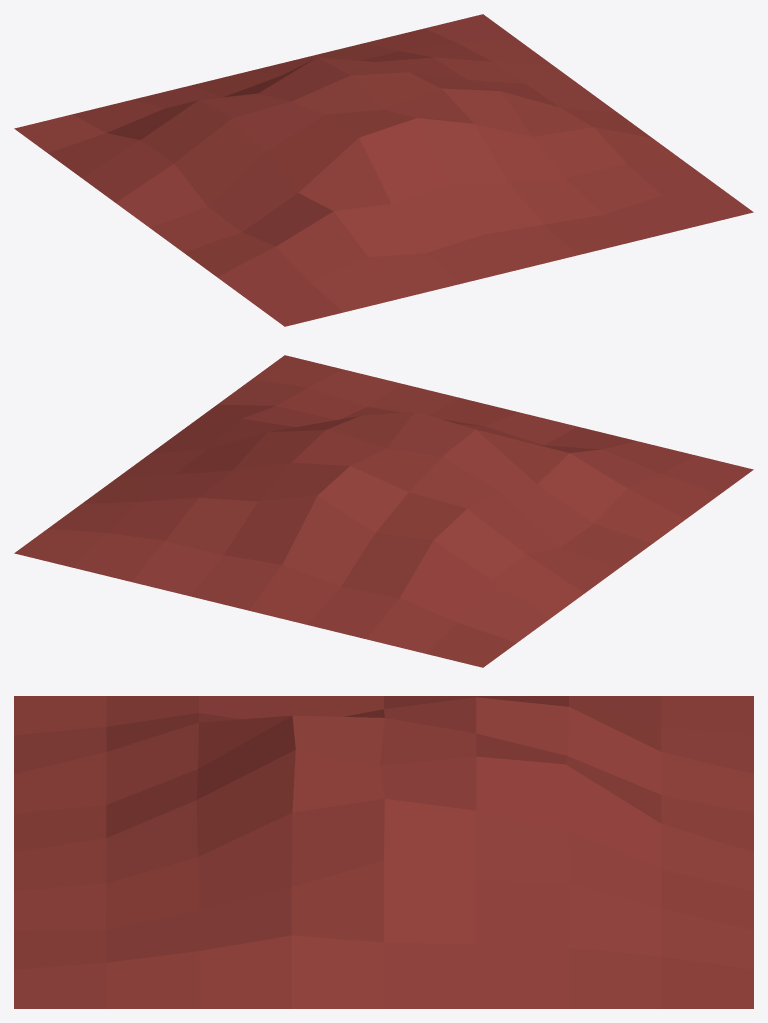
Rendered from Terrain_13_Red.fbx.
The picture shows the model from 3 angles, top to bottom: view 1: azimuth 30°, elevation 25°; view 2: azimuth 150°, elevation 25°; view 3: azimuth 270°, elevation 25°; orthographic projection. The views are drawn at different scales.
Visible parts, largest first — view 1: Terrain_13_Red; view 2: Terrain_13_Red; view 3: Terrain_13_Red.
Boxes of the visible parts, box(x1,y1,x2,y2) form: Terrain_13_Red: box(14, 14, 753, 326); Terrain_13_Red: box(14, 355, 753, 667); Terrain_13_Red: box(14, 696, 753, 1008).
Size of the model in its own units: 6000 by 926 by 6000.
